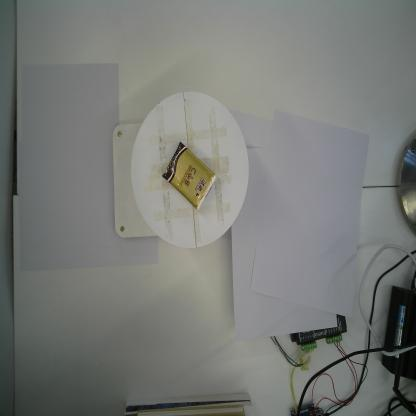Tissue: (161, 141, 217, 212)
